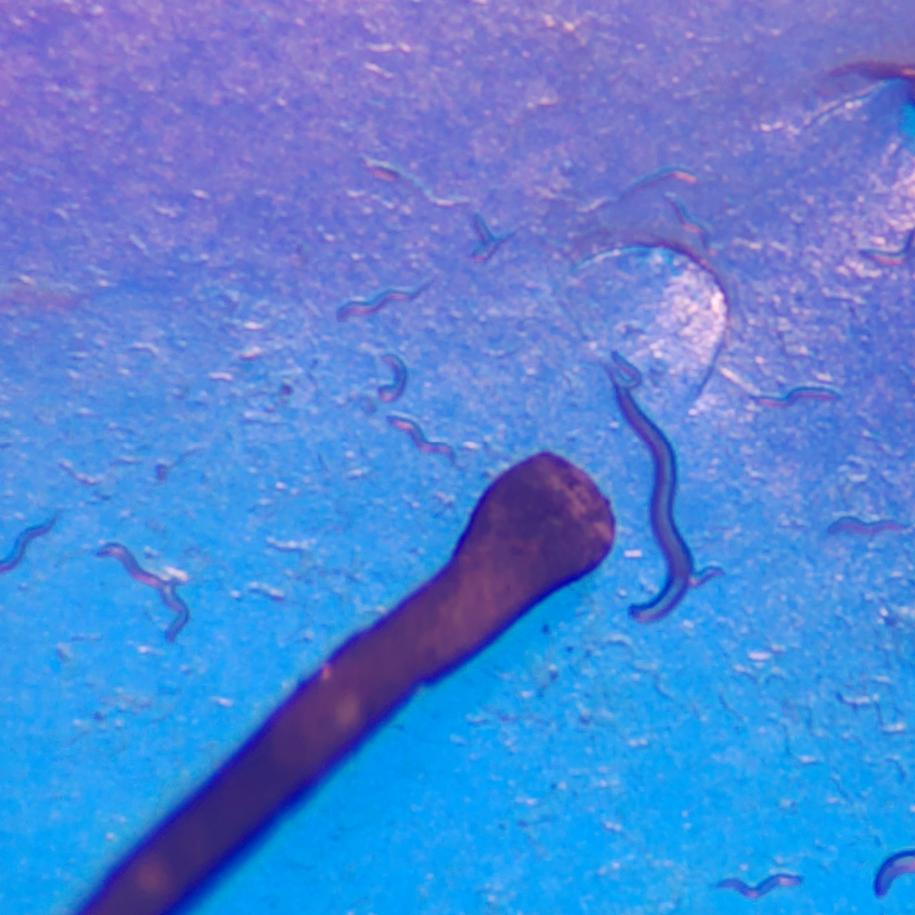pick: (77, 452, 613, 914)
worm: (604, 352, 693, 622), (0, 513, 58, 573), (714, 874, 802, 898)
